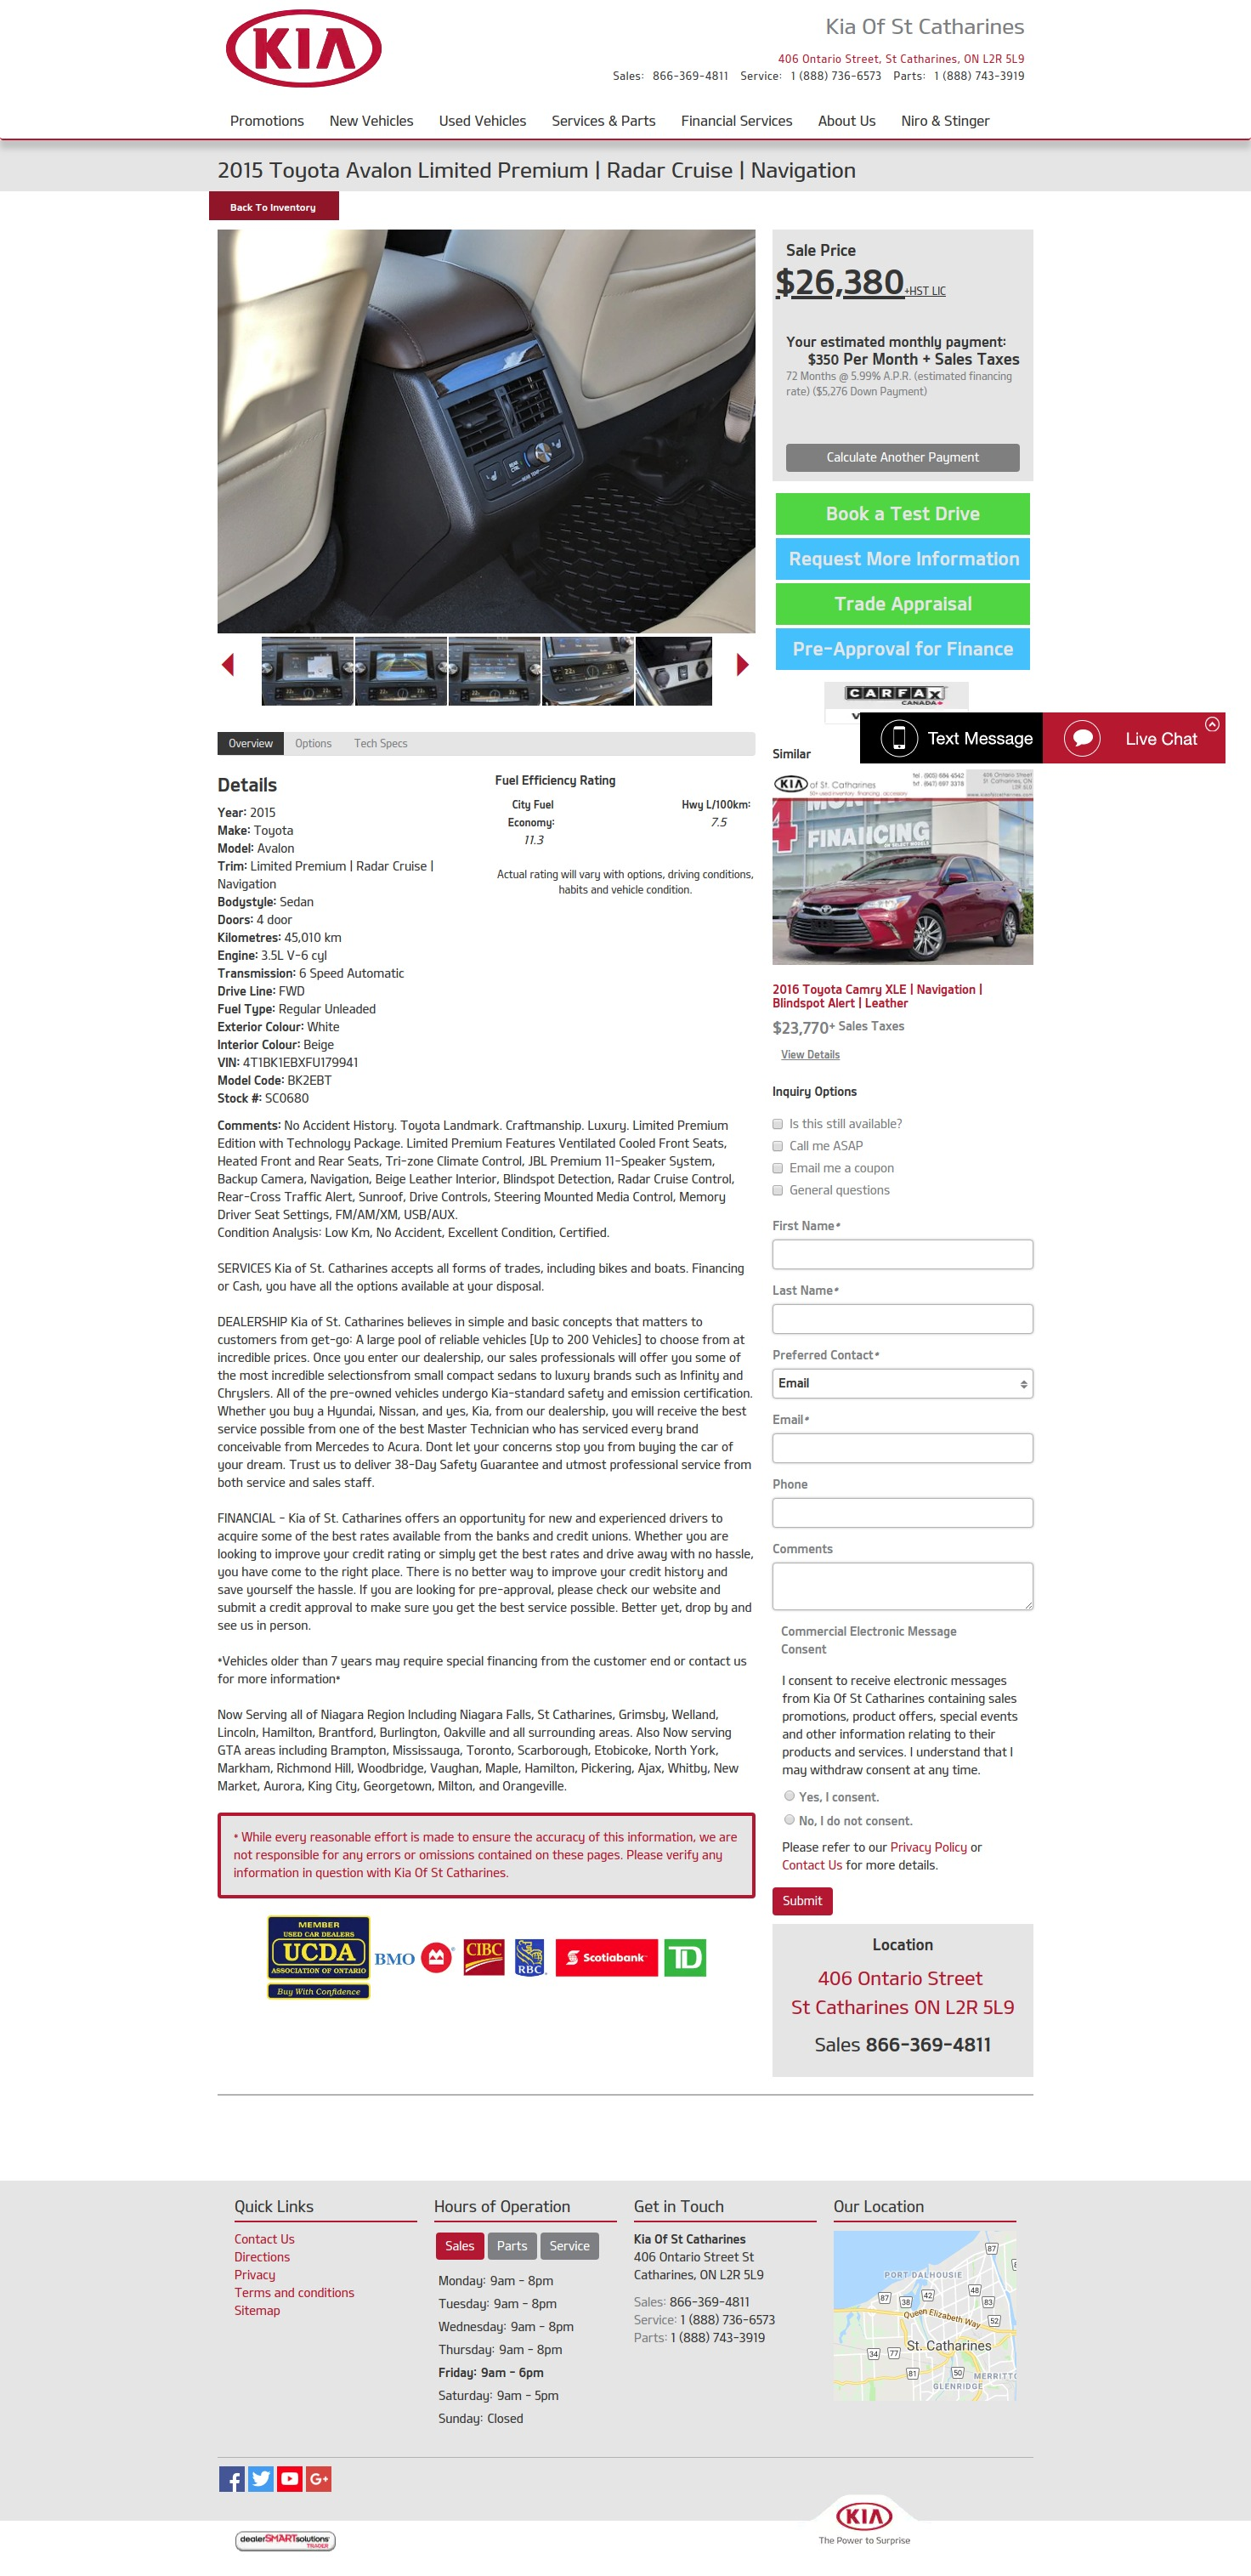car: (735, 652, 750, 678)
